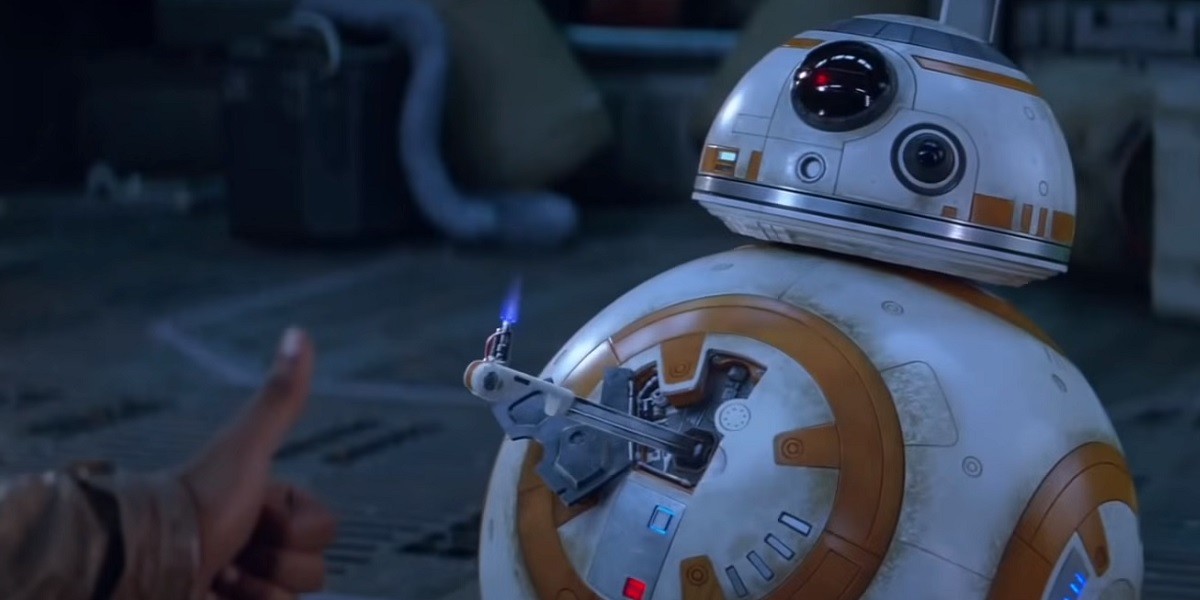bb8: (477, 13, 1146, 600)
